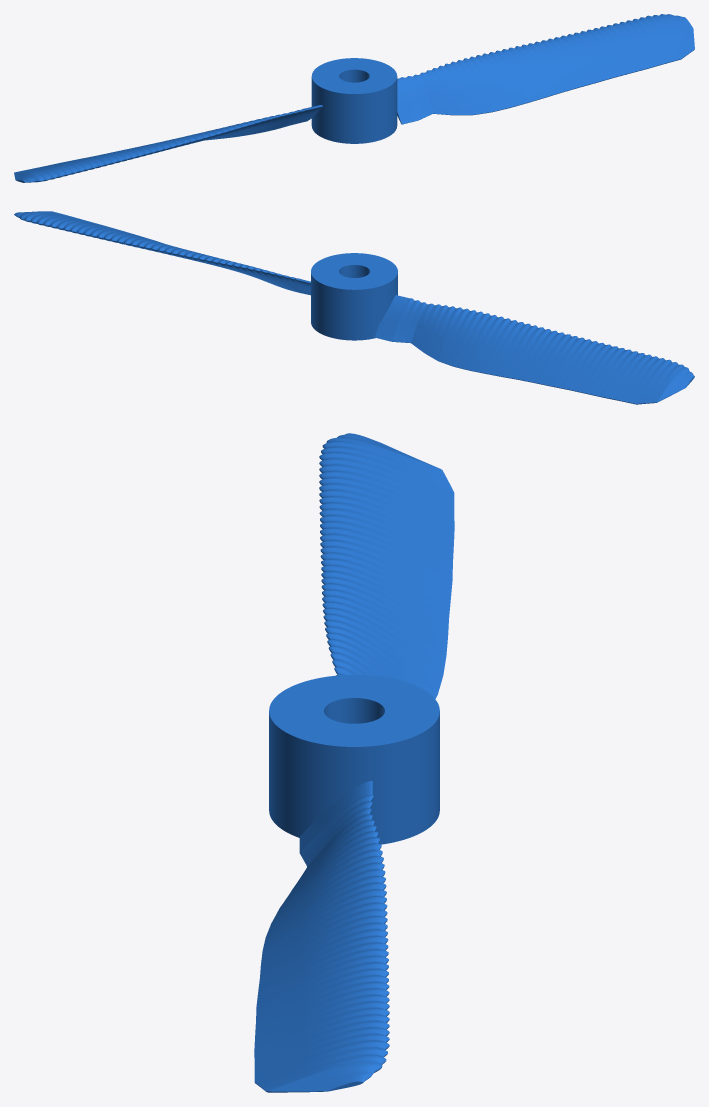
File: da4002_5x3.75_tubercles_A2L7.5.glb
3 views of the same model, one above another, from view 1: azimuth 30°, elevation 25°; view 2: azimuth 150°, elevation 25°; view 3: azimuth 270°, elevation 25° (orthographic). The views are drawn at different scales.
Parts seen in each view (by area): view 1: da4002_tubercles_A0.03_L0.11; view 2: da4002_tubercles_A0.03_L0.11; view 3: da4002_tubercles_A0.03_L0.11.
Part boxes in pixels (box(x1,y1,x2,y2)): da4002_tubercles_A0.03_L0.11: box(14, 14, 694, 182); da4002_tubercles_A0.03_L0.11: box(14, 211, 694, 404); da4002_tubercles_A0.03_L0.11: box(254, 433, 454, 1092).
Size of the model in its own units: 0.1257 by 0.00905 by 0.0164.
